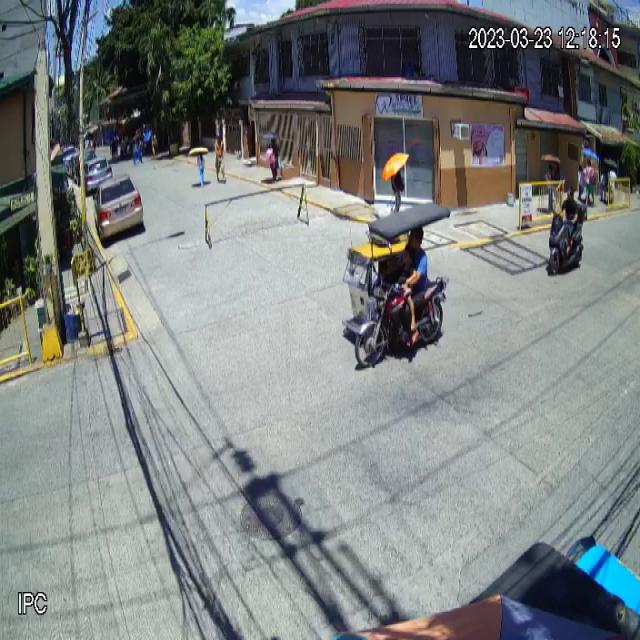Car: (92, 174, 144, 244)
Motorcycle: (548, 195, 588, 277)
Tricycle: (341, 202, 452, 370)
